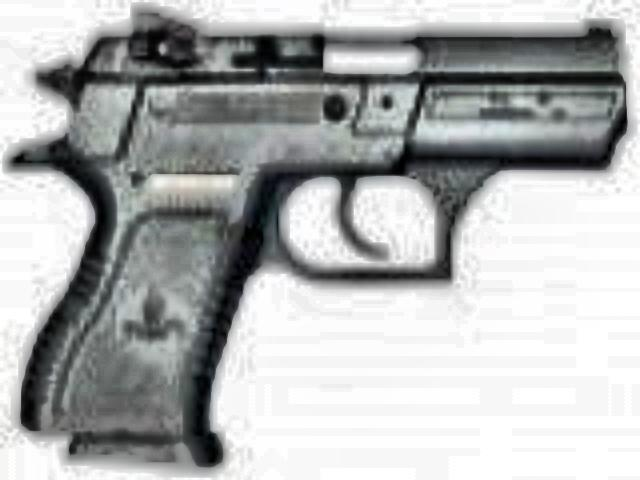pistol: (16, 0, 628, 468)
